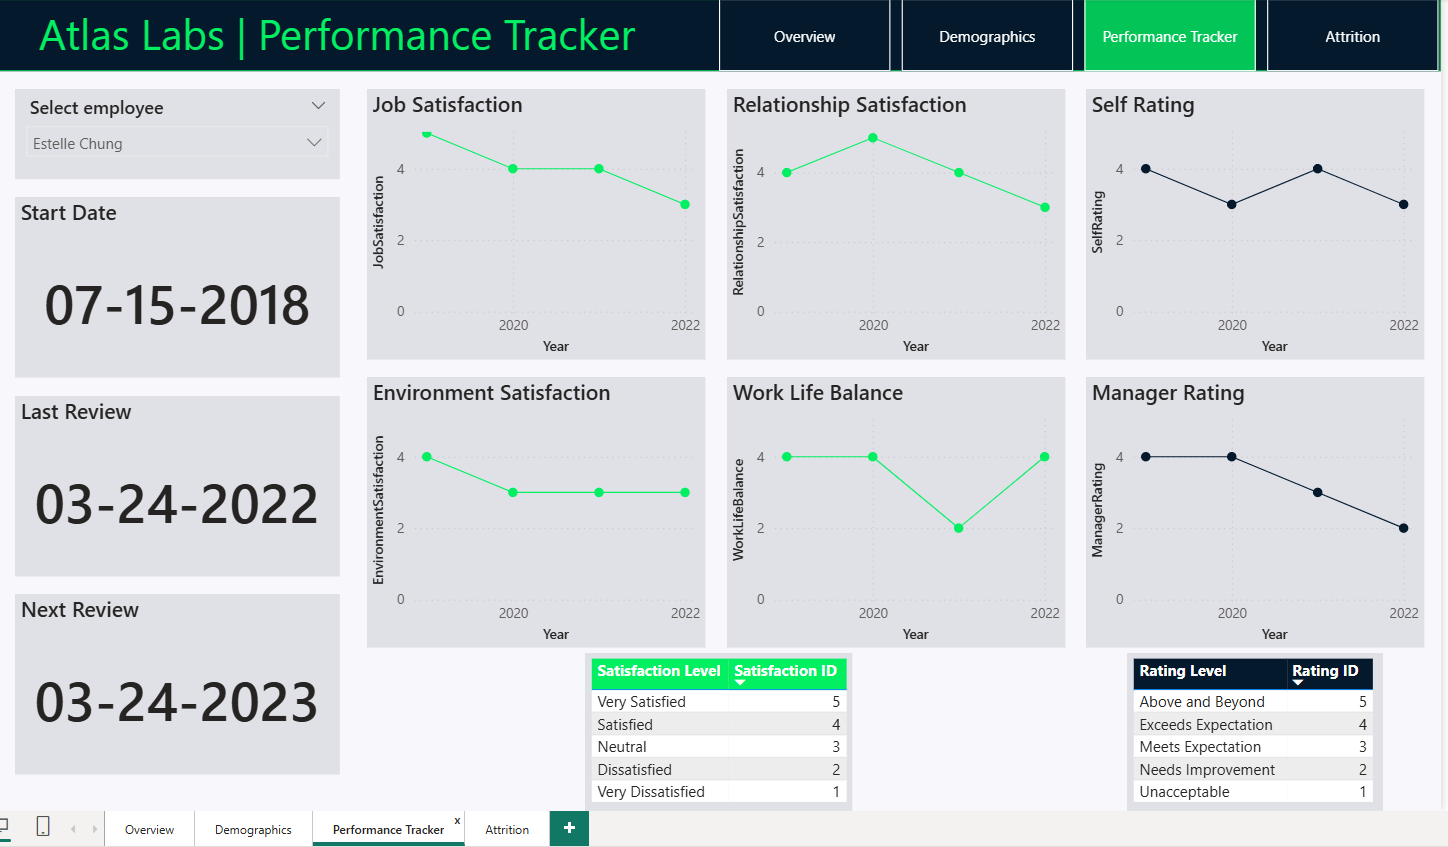

This screenshot's page, from the dashboard's own definition file:
{"tool":"powerbi","page":{"name":"Performance Tracker","canvas":[1280,720],"ordinal":2},"visuals":[{"type":"shape","box":[0,0,1280,64],"z":0},{"type":"textbox","box":[32,0,624,64],"z":1000},{"type":"pageNavigator","box":[640,0,640,64],"z":2000},{"type":"slicer","fields":{"Values":["DimEmployee.FullName"]},"box":[16,80,288,80],"z":3000},{"type":"card","title":"Start Date","fields":{"Values":["DimEmployee.HireDate"]},"box":[16,176,288,160],"z":4000},{"type":"card","title":"Last Review","fields":{"Values":["_Measures.LastReviewDate"]},"box":[16,352,288,160],"z":5000},{"type":"card","title":"Next Review","fields":{"Values":["_Measures.NextReviewDate"]},"box":[16,528,288,160],"z":6000},{"type":"lineChart","title":"Job Satisfaction","fields":{"Y":["_Measures.JobSatisfaction"],"Category":["DimDate.Year"]},"box":[328.3,79.8,300,240.3],"z":7000},{"type":"lineChart","title":"Relationship Satisfaction","fields":{"Y":["_Measures.RelationshipSatisfaction"],"Category":["DimDate.Year"]},"box":[646.9,79.8,300,240.3],"z":8000},{"type":"lineChart","title":"Self Rating","fields":{"Y":["_Measures.SelfRating"],"Category":["DimDate.Year"]},"box":[965.5,79.8,299.7,240.3],"z":9000},{"type":"lineChart","title":"Work Life Balance","fields":{"Y":["_Measures.WorkLifeBalance"],"Category":["DimDate.Year"]},"box":[647.4,335.5,299.7,240.3],"z":10000},{"type":"lineChart","title":"Manager Rating","fields":{"Y":["_Measures.ManagerRating"],"Category":["DimDate.Year"]},"box":[965.5,335.5,299.7,240.3],"z":11000},{"type":"lineChart","title":"Environment Satisfaction","fields":{"Y":["_Measures.EnvironmentSatisfaction"],"Category":["DimDate.Year"]},"box":[328.3,335.5,300,240.3],"z":12000},{"type":"tableEx","fields":{"Values":["DimRatingLevel.RatingLevel","DimRatingLevel.RatingID"]},"box":[1002.3,579.9,227,140.1],"z":13000},{"type":"tableEx","fields":{"Values":["DimSatisfiedLevel.SatisfactionLevel","DimSatisfiedLevel.SatisfactionID"]},"box":[521.6,579.9,237.3,140.1],"z":14000}]}

Visuals, with their boxes on the page's 1280x720 design canvas (x1, y1, x2, y2). These are canvas units, not pixel positions in the 1448x847 screenshot, which may show the page scaled, cropped or inside an application window:
shape: [0, 0, 1280, 64]
textbox: [32, 0, 656, 64]
pageNavigator: [640, 0, 1280, 64]
slicer - DimEmployee.FullName: [16, 80, 304, 160]
"Start Date" card: [16, 176, 304, 336]
"Last Review" card: [16, 352, 304, 512]
"Next Review" card: [16, 528, 304, 688]
"Job Satisfaction" lineChart: [328, 80, 628, 320]
"Relationship Satisfaction" lineChart: [647, 80, 947, 320]
"Self Rating" lineChart: [966, 80, 1265, 320]
"Work Life Balance" lineChart: [647, 336, 947, 576]
"Manager Rating" lineChart: [966, 336, 1265, 576]
"Environment Satisfaction" lineChart: [328, 336, 628, 576]
tableEx - DimRatingLevel.RatingLevel x DimRatingLevel.RatingID: [1002, 580, 1229, 720]
tableEx - DimSatisfiedLevel.SatisfactionLevel x DimSatisfiedLevel.SatisfactionID: [522, 580, 759, 720]
